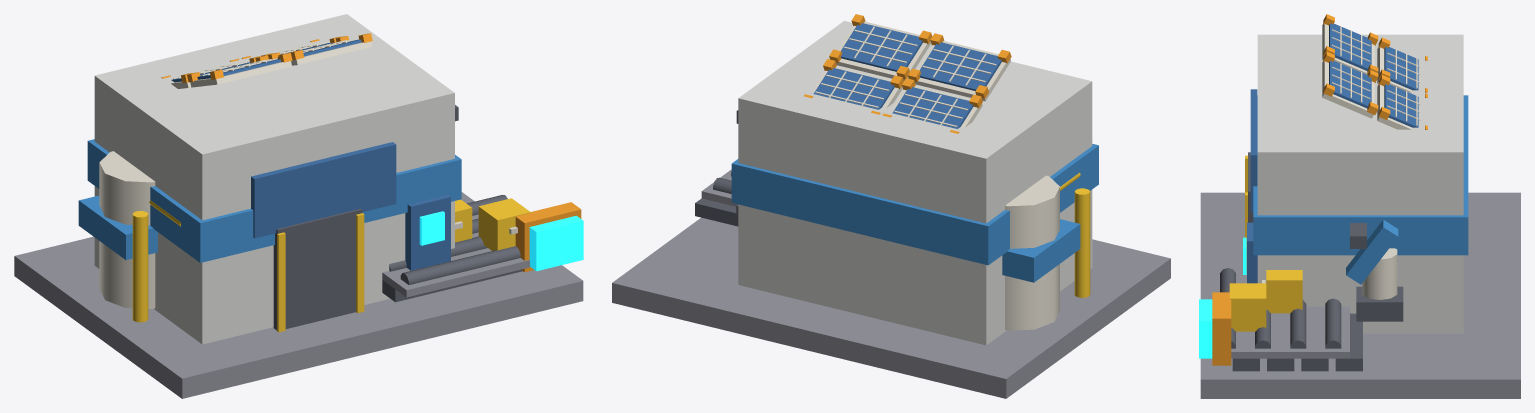
Rendered from model_solar_factory.glb.
3 views of the same model, side by side, from view 1: azimuth 30°, elevation 25°; view 2: azimuth 150°, elevation 25°; view 3: azimuth 270°, elevation 25° (orthographic). The views are drawn at different scales.
Parts seen in each view (by area): view 1: factory_body, factory_slab, factory_sign, factory_blue_band, main_door, storage_tank, factory_outlet, side_control, conveyor_belt, storage_band, yellow_pipe_vertical, battery_2.12_1.48 (+10 smaller); view 2: factory_body, factory_slab, factory_blue_band, storage_tank, storage_band, panel_cells_1_0, panel_cells_1_1, panel_cells_0_0, panel_cells_0_1, yellow_pipe_vertical, panel_back_1_0, panel_back_1_1 (+2 smaller); view 3: factory_body, factory_slab, factory_blue_band, conveyor_belt, battery_2.12_1.48, battery_1.55_1.0, robot_arm, outlet_frame, robot_shoulder, robot_base, panel_cells_1_1, panel_cells_1_0 (+18 smaller).
Part boxes in pixels (bbox=[...]): factory_body: bbox=[94, 14, 454, 344]; factory_slab: bbox=[14, 192, 583, 398]; factory_sign: bbox=[251, 142, 396, 238]; factory_blue_band: bbox=[87, 139, 461, 262]; main_door: bbox=[273, 208, 362, 330]; storage_tank: bbox=[99, 151, 155, 308]; factory_outlet: bbox=[529, 215, 583, 271]; side_control: bbox=[405, 194, 450, 270]; conveyor_belt: bbox=[382, 214, 530, 297]; storage_band: bbox=[78, 195, 157, 259]; yellow_pipe_vertical: bbox=[132, 211, 148, 322]; battery_2.12_1.48: bbox=[478, 198, 530, 250]; factory_body: bbox=[738, 20, 1092, 345]; factory_slab: bbox=[612, 217, 1170, 398]; factory_blue_band: bbox=[731, 144, 1098, 265]; storage_tank: bbox=[1005, 175, 1059, 330]; storage_band: bbox=[1002, 219, 1080, 282]; panel_cells_1_0: bbox=[919, 42, 1001, 90]; panel_cells_1_1: bbox=[840, 23, 922, 71]; panel_cells_0_0: bbox=[892, 87, 973, 128]; panel_cells_0_1: bbox=[813, 68, 894, 109]; yellow_pipe_vertical: bbox=[1074, 188, 1090, 297]; panel_back_1_0: bbox=[915, 41, 1010, 101]; panel_back_1_1: bbox=[836, 21, 931, 80]; factory_body: bbox=[1257, 34, 1463, 333]; factory_slab: bbox=[1200, 192, 1520, 398]; factory_blue_band: bbox=[1253, 95, 1468, 255]; conveyor_belt: bbox=[1211, 273, 1349, 358]; battery_2.12_1.48: bbox=[1229, 283, 1266, 331]; battery_1.55_1.0: bbox=[1266, 270, 1302, 313]; robot_arm: bbox=[1346, 219, 1398, 284]; outlet_frame: bbox=[1212, 292, 1231, 365]; robot_shoulder: bbox=[1362, 248, 1397, 299]; robot_base: bbox=[1356, 286, 1403, 321]; panel_cells_1_1: bbox=[1329, 61, 1371, 108]; panel_cells_1_0: bbox=[1329, 23, 1371, 70].
Size of the model in its own units: 5.86 by 3.53 by 4.22.
